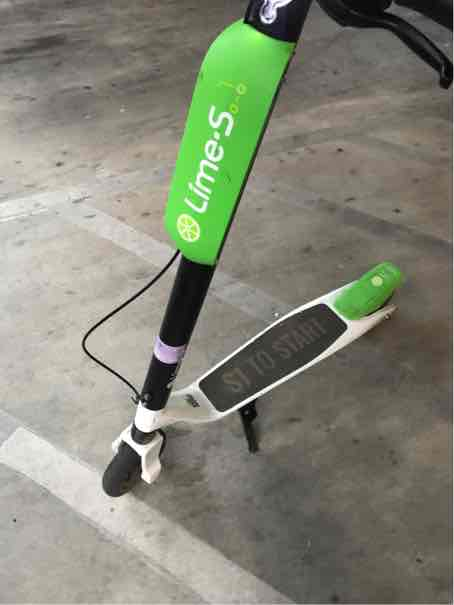scooter: (82, 1, 410, 501)
